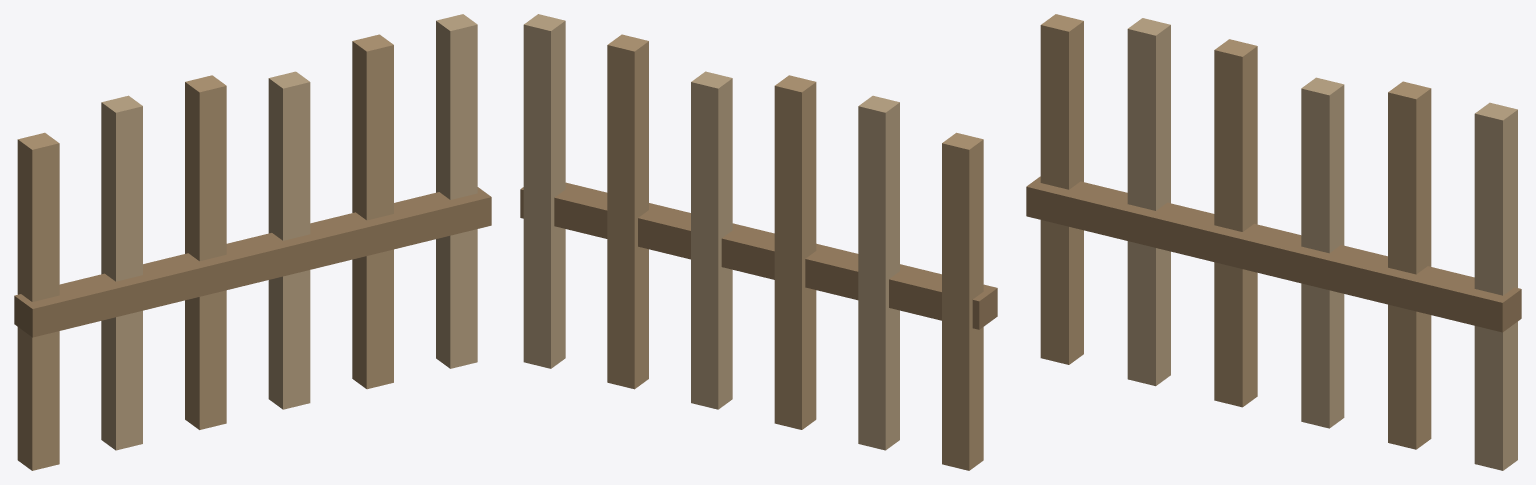
The picture shows the model from 3 angles, left to right: view 1: azimuth 30°, elevation 25°; view 2: azimuth 150°, elevation 25°; view 3: azimuth 330°, elevation 25°; orthographic projection. The views are drawn at different scales.
Parts seen in each view (by area): view 1: fence_picket; view 2: fence_picket; view 3: fence_picket.
Part boxes in pixels (left/top/right/bottom): fence_picket: left=14, top=14, right=491, bottom=470; fence_picket: left=520, top=14, right=997, bottom=470; fence_picket: left=1026, top=14, right=1521, bottom=470.
Bounding box in the file's own units: 2.02 × 1.42 × 0.165.
